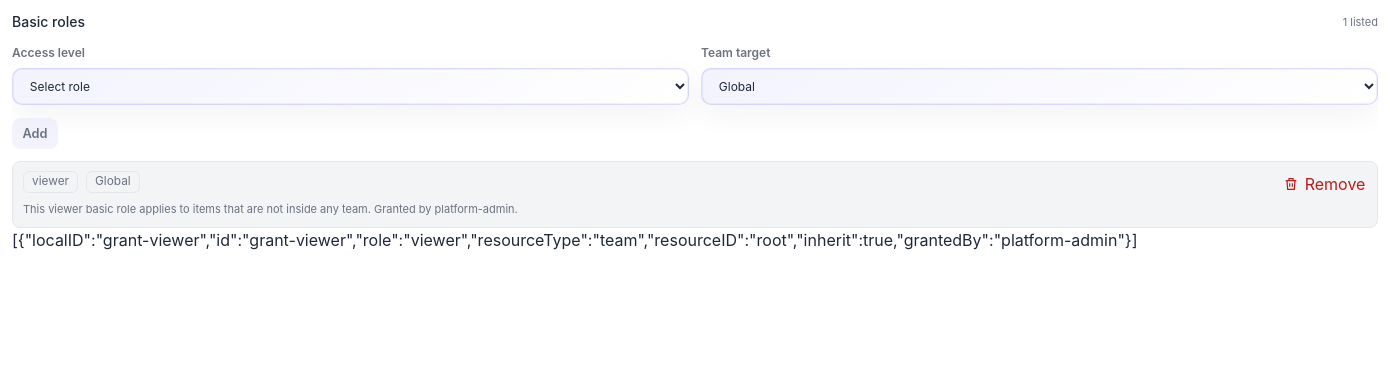
Scenario: replaces a role on the same target and adds scoped access
The width and height of the screenshot is (1390, 366).
expect the text "This viewer basic role" shows "Granted by platform-admin.": met, box [371, 202, 518, 216]
Select "Developer" in the dropdown labelled "Access level" at (350, 86), box [12, 68, 689, 105]
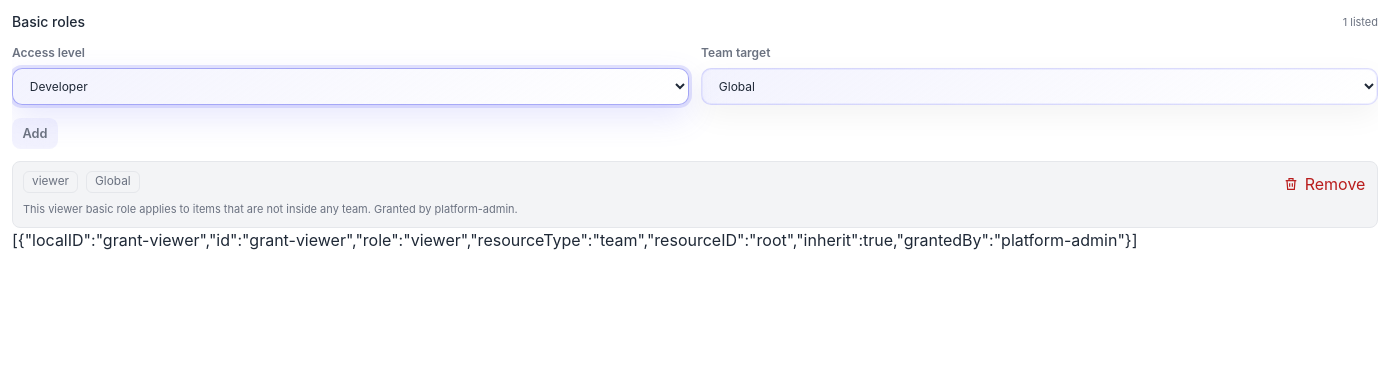
Click the button "Add".
click(35, 133)  # box [12, 118, 58, 149]
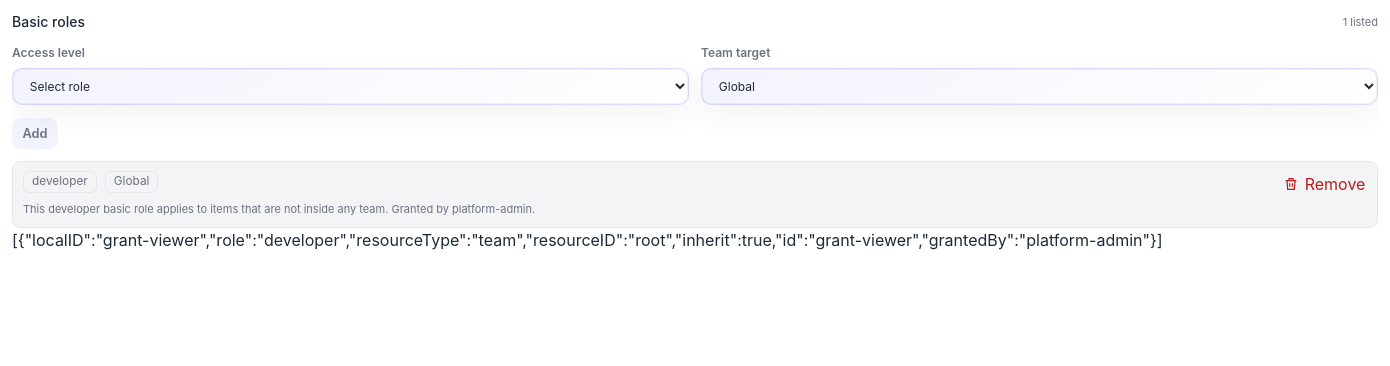
expect the text with test id "grant-state" shows "\"localID\":\"grant-viewer\"": met, box [12, 230, 1163, 250]
expect the text "developer" is shown: met, box [23, 171, 97, 193]
Select "Owner" in the dropdown labelled "Access level" at (350, 86), box [12, 68, 689, 105]
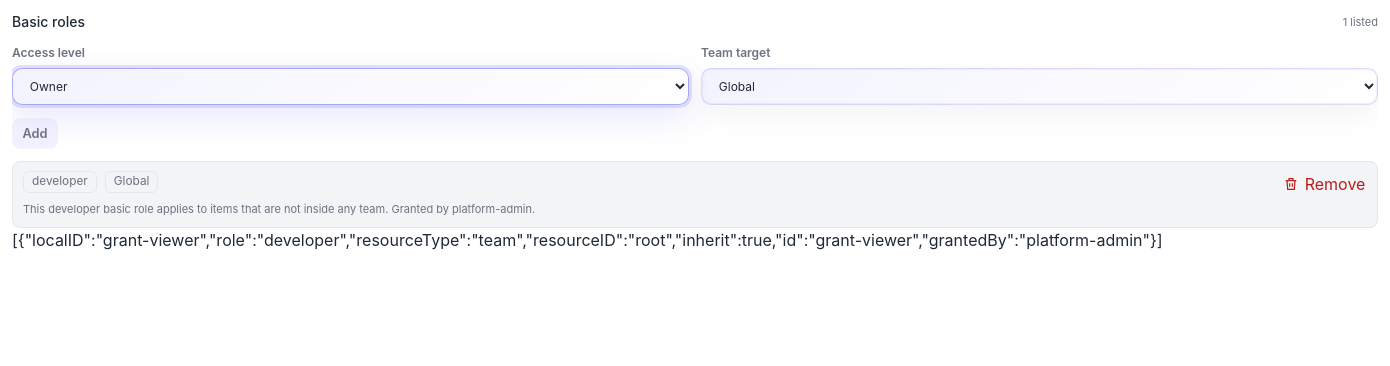
Select "Engineering" in the dropdown labelled "Team target" at (1040, 86), box [701, 68, 1378, 105]
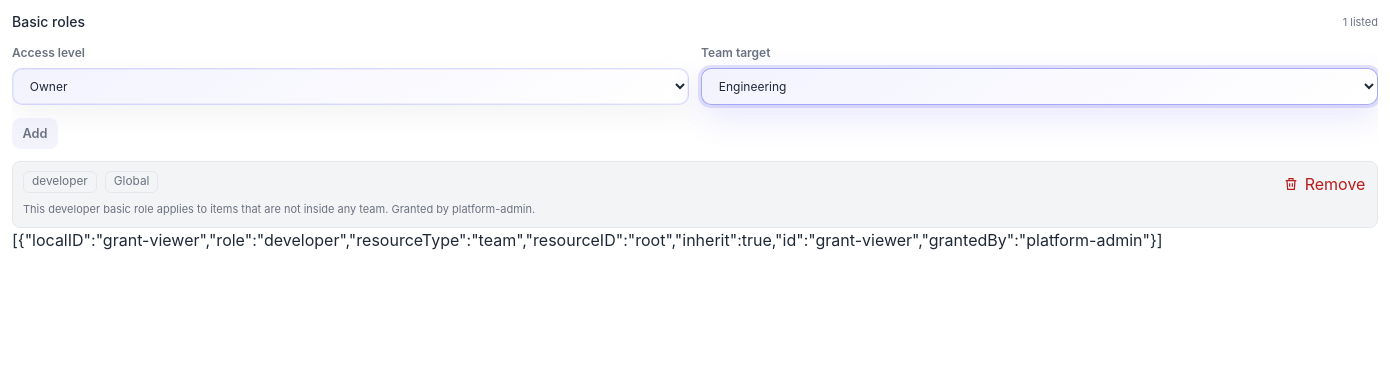
Click the button "Add".
click(35, 133)  # box [12, 118, 58, 149]
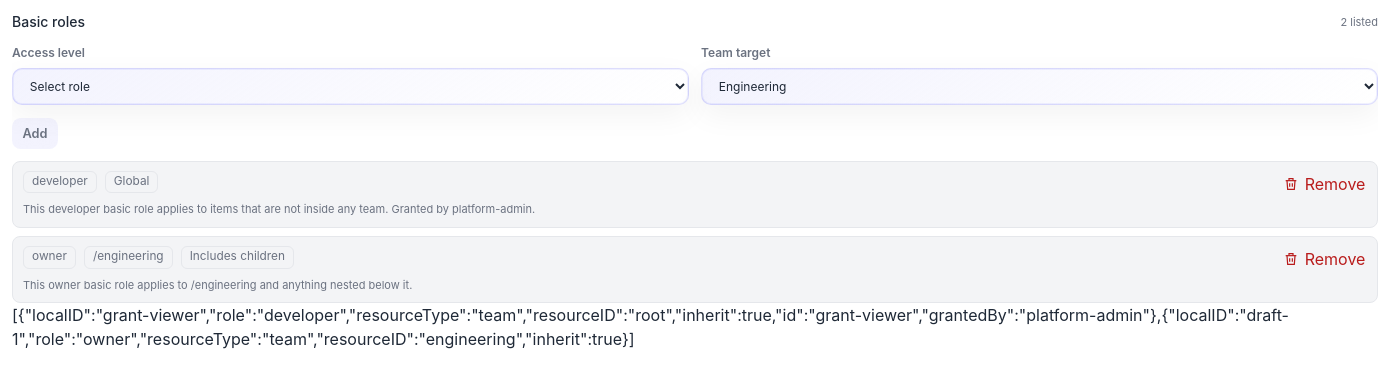
expect the text "2 listed" is shown: met, box [1340, 14, 1378, 30]
expect the text "Includes children" is shown: met, box [181, 246, 294, 269]
expect the text "/engineering" is shown: met, box [84, 246, 173, 269]
Click the button "Remove" in the row of "Global".
click(1324, 184)  # box [1282, 171, 1367, 198]
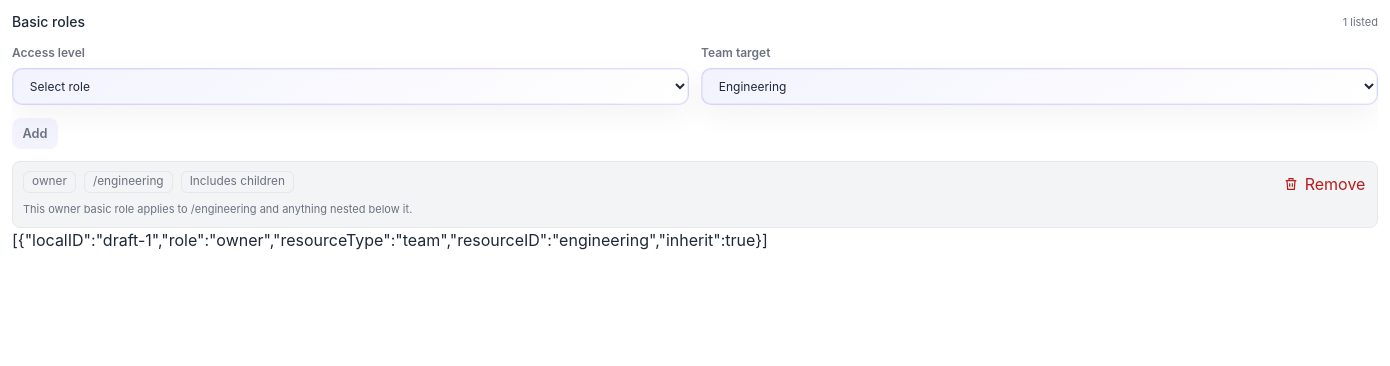
expect the text "1 listed" is shown: met, box [1343, 14, 1378, 30]
